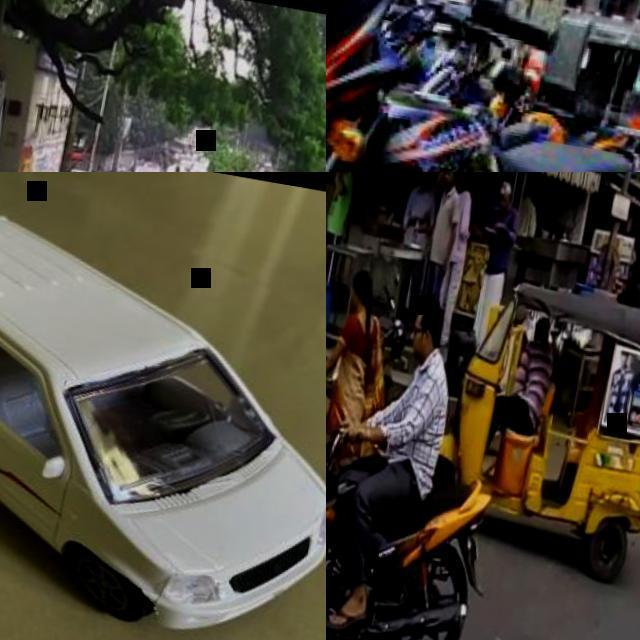car: (2, 242, 325, 635), (522, 1, 639, 143)
